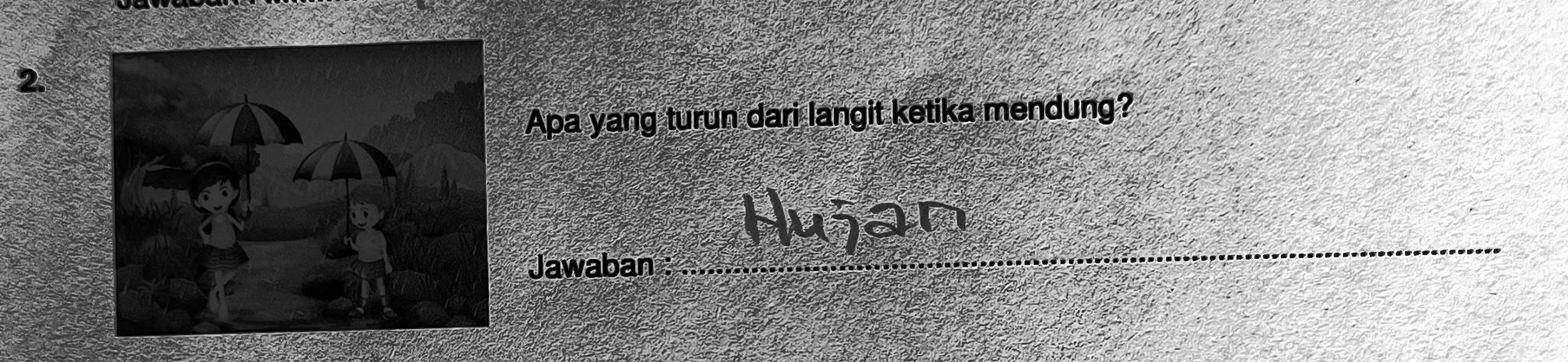jawaban: (736, 178, 976, 264)
